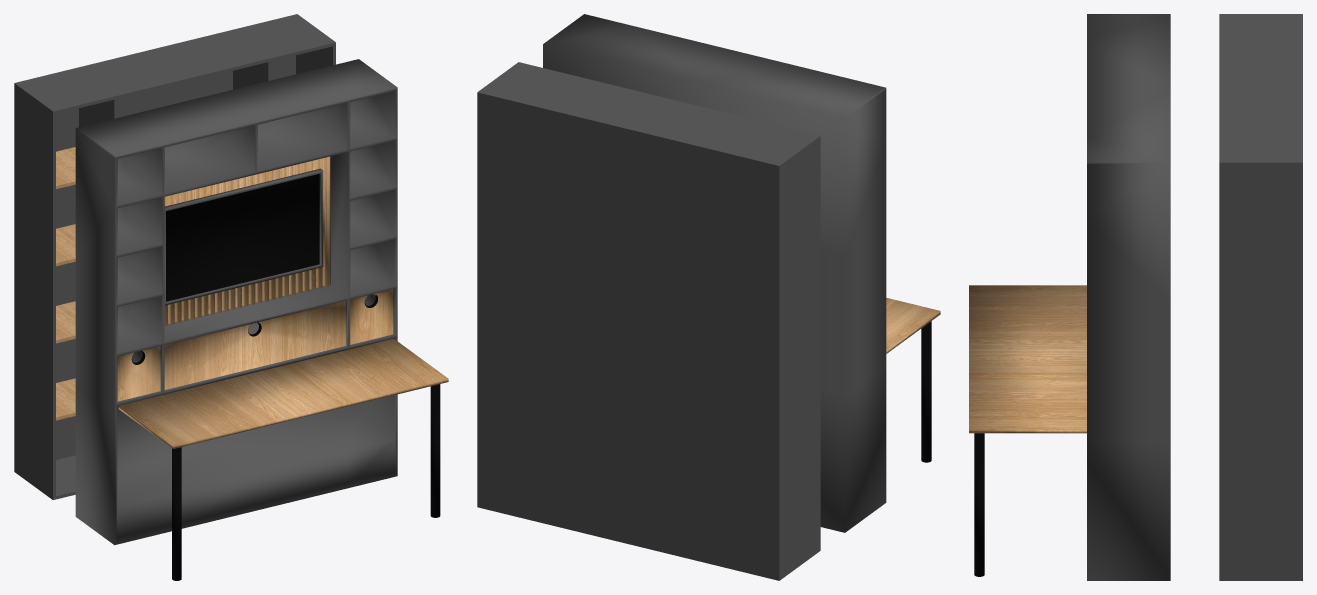
Rendered from bureau_kastm.gltf.
The picture shows the model from 3 angles, left to right: view 1: azimuth 30°, elevation 25°; view 2: azimuth 150°, elevation 25°; view 3: azimuth 270°, elevation 25°; orthographic projection. The views are drawn at different scales.
Parts seen in each view (by area): view 1: bureau_kastm; view 2: bureau_kastm; view 3: bureau_kastm.
Boxes of the visible parts, x1=… form: bureau_kastm: x1=14, y1=14, x2=448, y2=580; bureau_kastm: x1=477, y1=14, x2=940, y2=580; bureau_kastm: x1=969, y1=14, x2=1302, y2=580.
Size of the model in its own units: 1685 by 2212 by 1600.
5 materials, 2 textured.
